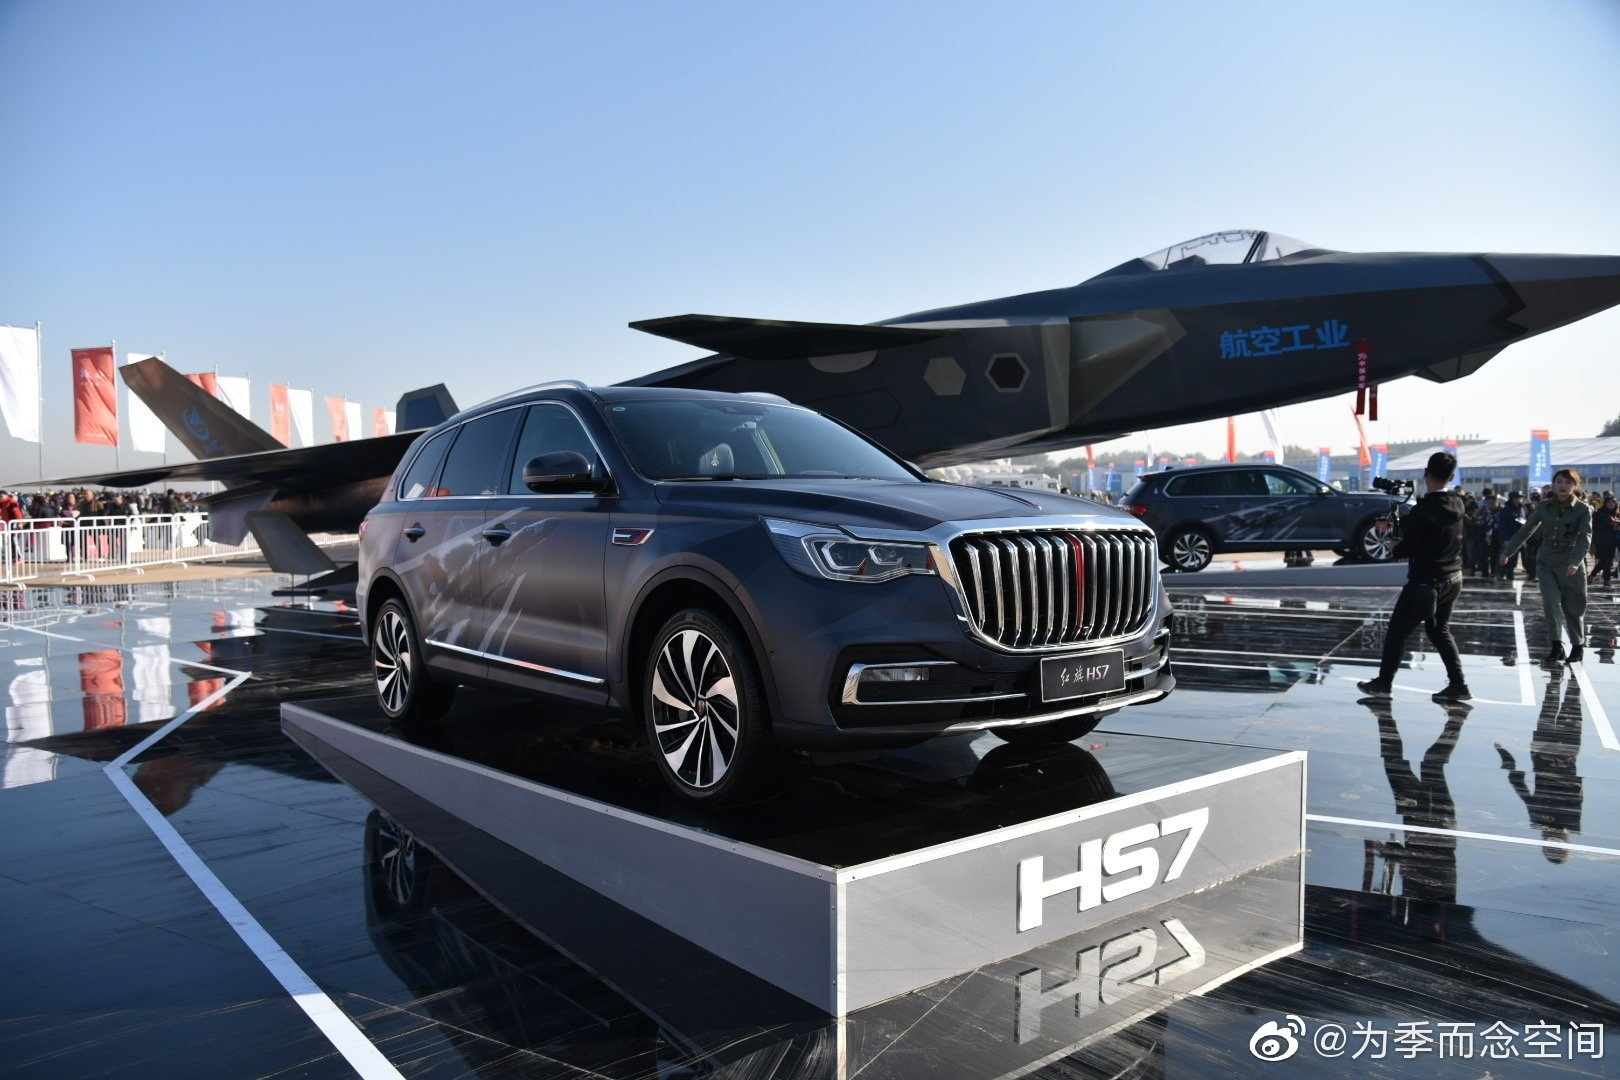J20: (1, 228, 1620, 547)
